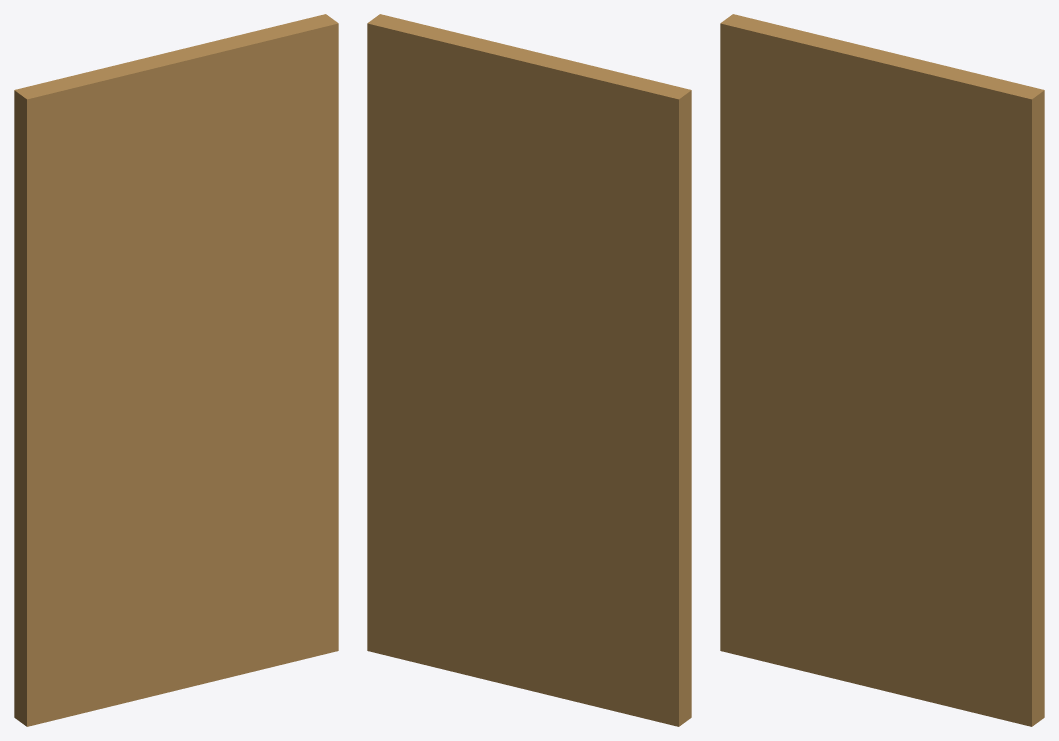
3 views of the same model, side by side, from view 1: azimuth 30°, elevation 25°; view 2: azimuth 150°, elevation 25°; view 3: azimuth 330°, elevation 25° (orthographic).
Visible parts, largest first — view 1: FF-W192; view 2: FF-W192; view 3: FF-W192.
Part boxes in pixels (box(x1,y1,x2,y2)): FF-W192: box(14, 14, 338, 726); FF-W192: box(367, 14, 691, 726); FF-W192: box(720, 14, 1044, 726).
Size of the model in its own units: 1.26 by 2.42 by 0.09.
